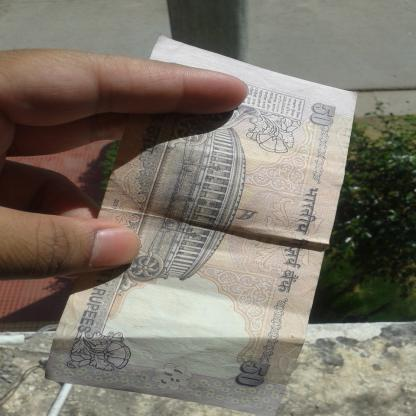Old50Back: (47, 34, 357, 416)
